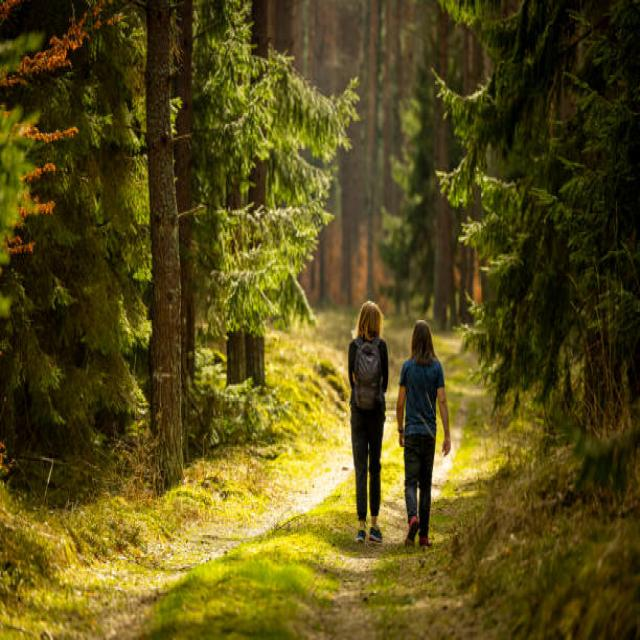Forest: (1, 0, 640, 640)
Militant: (391, 314, 473, 562), (342, 288, 393, 572)
